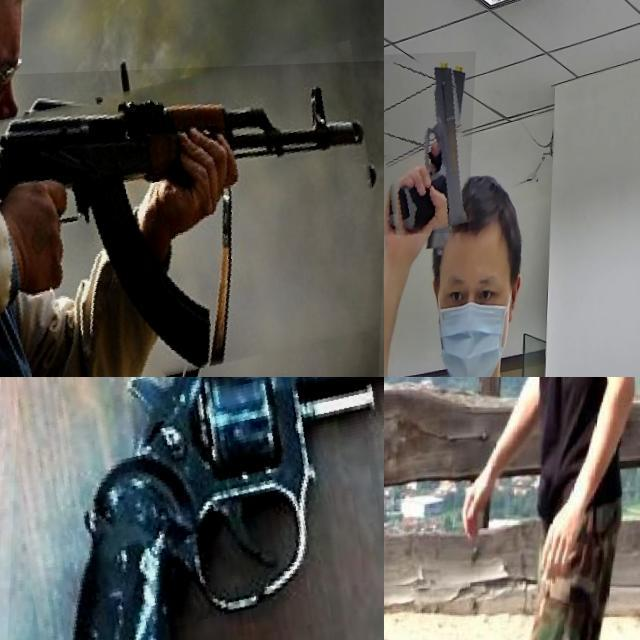-: (384, 401, 415, 540)
gun-knife-thesis - v11 Yolov5 augmented: (0, 64, 384, 377), (5, 377, 384, 640), (384, 52, 477, 236)
